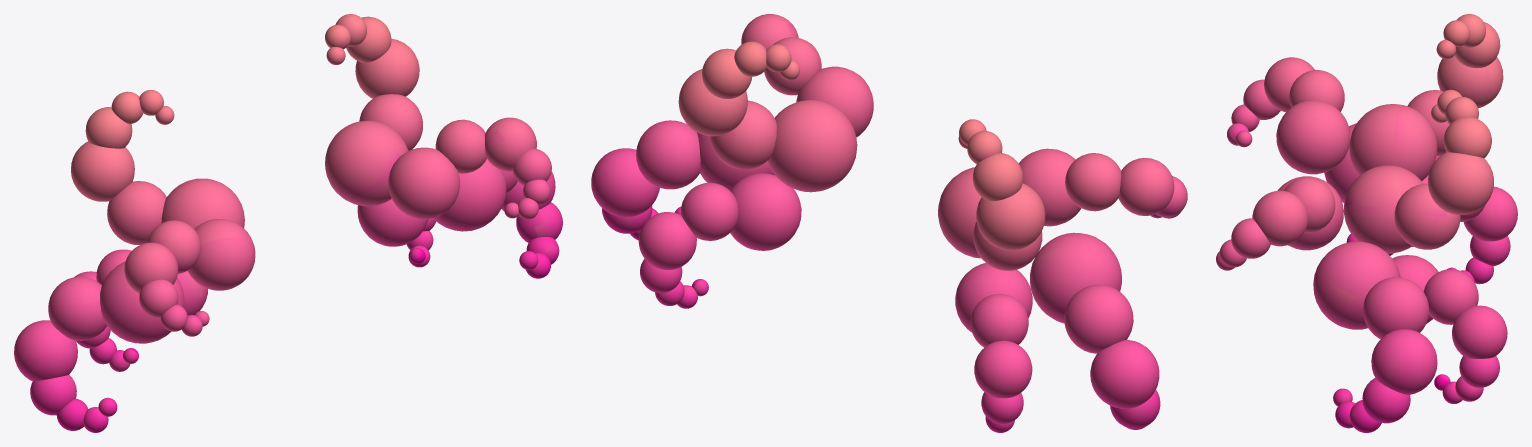
Rendered from Branquias_0.glb.
3 renders of one model, left to right at view 1: azimuth 30°, elevation 25°; view 2: azimuth 150°, elevation 25°; view 3: azimuth 270°, elevation 25°, orthographic. The views are drawn at different scales.
Parts seen in each view (by area): view 1: ESFERAS BRANQUIAS; view 2: ESFERAS BRANQUIAS; view 3: ESFERAS BRANQUIAS.
Boxes of the visible parts, bbox=[...] form: ESFERAS BRANQUIAS: bbox=[14, 14, 562, 432]; ESFERAS BRANQUIAS: bbox=[591, 14, 1187, 432]; ESFERAS BRANQUIAS: bbox=[1216, 14, 1517, 432].
Size of the model in its own units: 2.79 by 1.56 by 1.34.
1 material, 1 textured.
